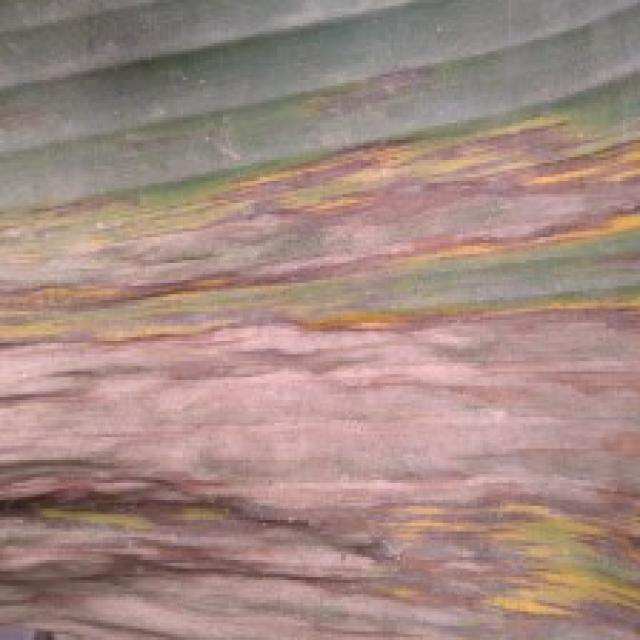Early_leaf_spot: (0, 85, 637, 640)
